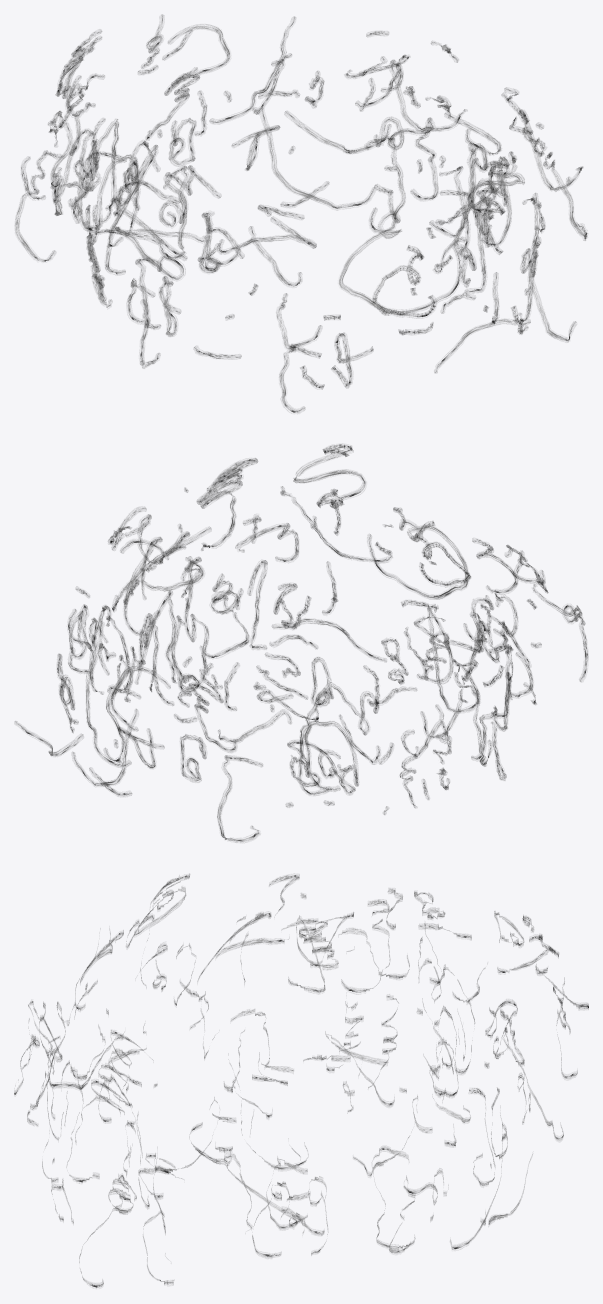
File: Artwork.glb
3 renders of one model, top to bottom at view 1: azimuth 30°, elevation 25°; view 2: azimuth 150°, elevation 25°; view 3: azimuth 270°, elevation 25°, orthographic. The views are drawn at different scales.
Visible parts, largest first — view 1: Mesh_Renderer; view 2: Mesh_Renderer; view 3: Mesh_Renderer.
Part boxes in pixels (x1=…): Mesh_Renderer: x1=15, y1=14, x2=587, y2=412; Mesh_Renderer: x1=15, y1=444, x2=588, y2=842; Mesh_Renderer: x1=14, y1=874, x2=588, y2=1287.
Bounding box in the file's own units: 2.92 × 1.38 × 2.95.
1 material, 1 textured.
